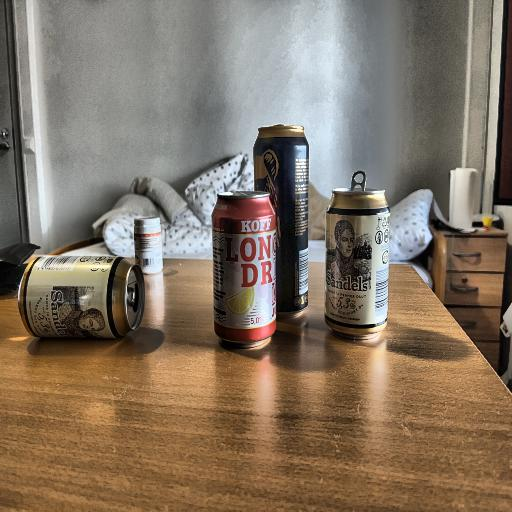koff: (206, 190, 280, 351)
sandels: (318, 170, 397, 344), (19, 250, 151, 348)
